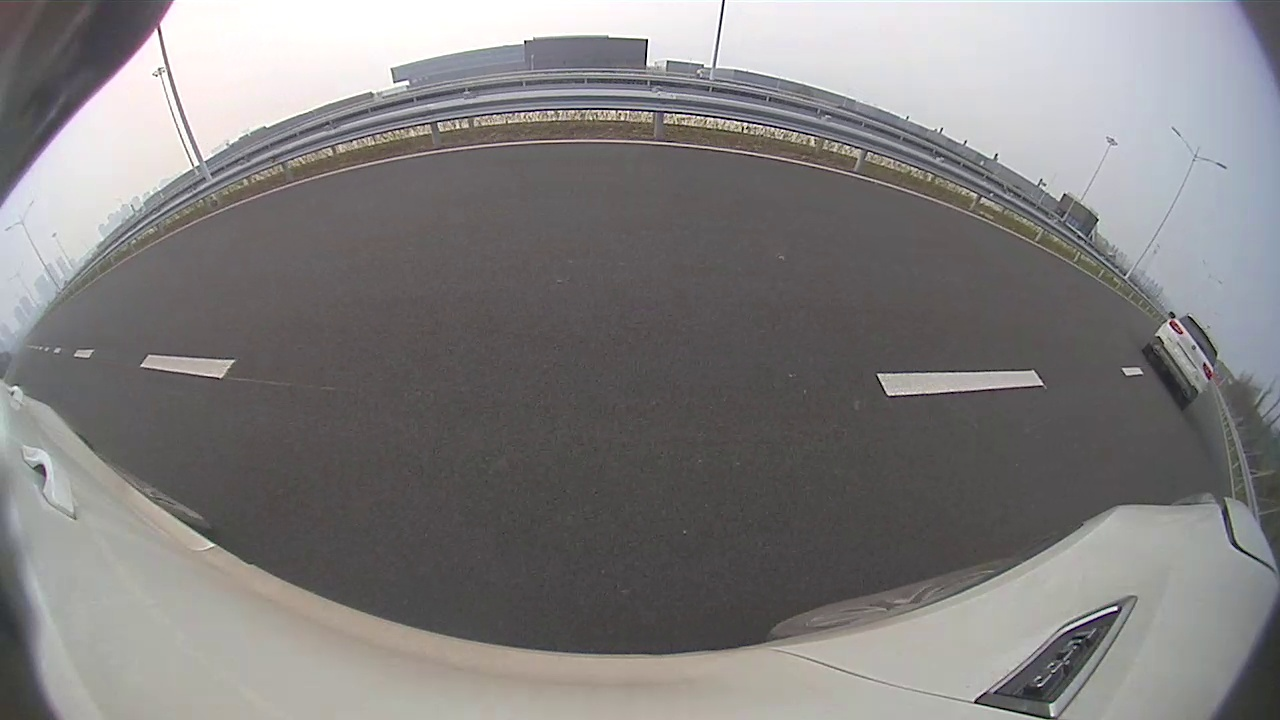car: (1142, 313, 1219, 411)
